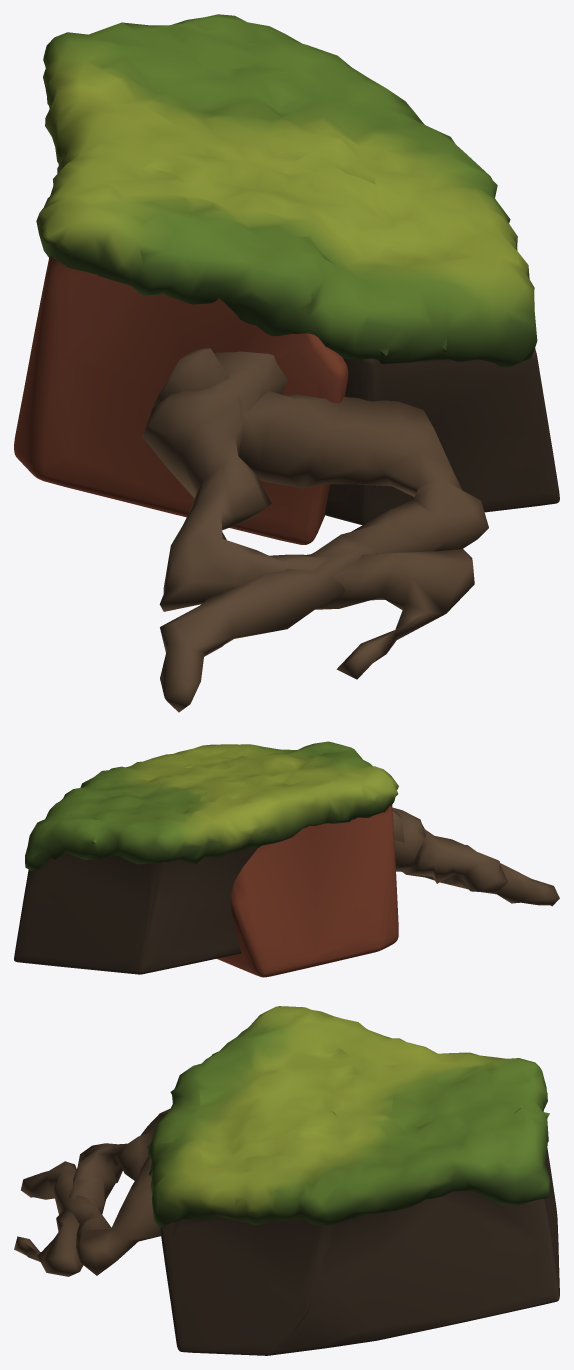
File: mire_peat_clod_c.glb
3 views of the same model, one above another, from view 1: azimuth 30°, elevation 25°; view 2: azimuth 150°, elevation 25°; view 3: azimuth 270°, elevation 25° (orthographic). The views are drawn at different scales.
Parts seen in each view (by area): view 1: mire_peat_clod_c; view 2: mire_peat_clod_c; view 3: mire_peat_clod_c.
Boxes of the visible parts, left/top/right/bottom form: mire_peat_clod_c: left=14, top=14, right=559, bottom=712; mire_peat_clod_c: left=14, top=741, right=559, bottom=977; mire_peat_clod_c: left=14, top=1006, right=559, bottom=1355.
Bounding box in the file's own units: 4.15 × 2.45 × 5.4.
